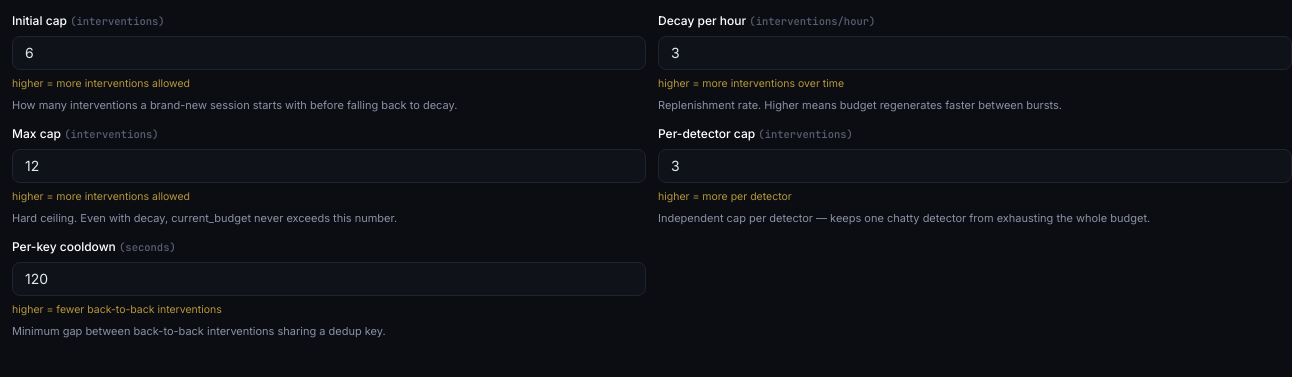
NurseBudgetEditor validation › rejects per_detector_cap > initial_cap and surfaces an inline error
The image size is (1292, 377).
Note: initial_cap is 6 — set per-detector to 9 (invalid).
Replace the text in the number field named "Per-detector cap" with "9" at (975, 166), box 671,156 -> 1279,176
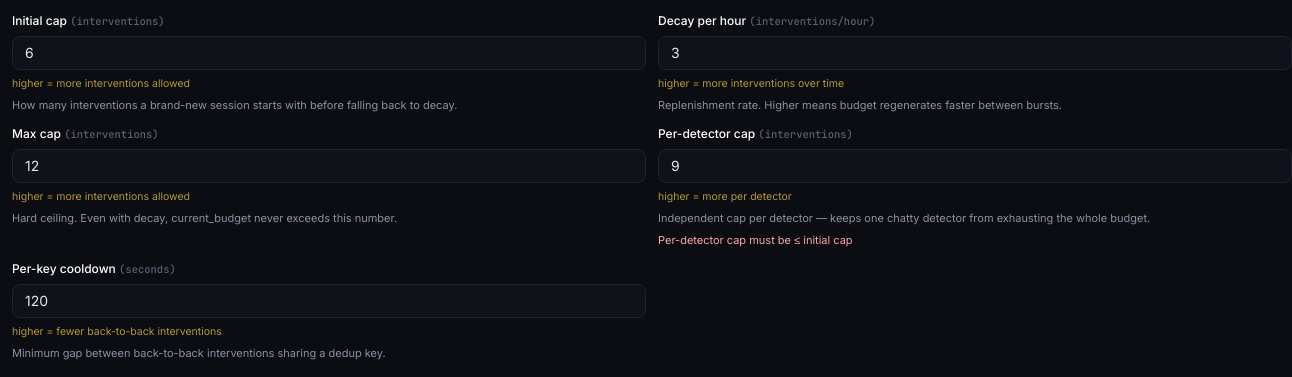
Expected: the message with test id "nurse-budget-error" shows "initial cap", 658,233 -> 852,247
